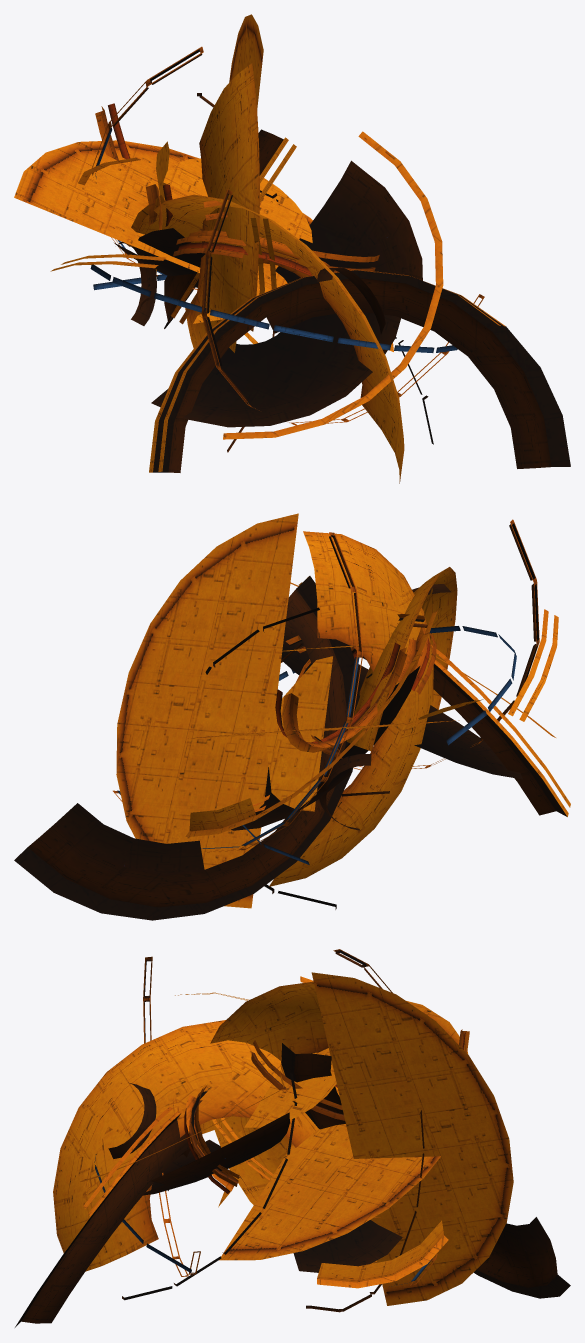
The model's file is MonsterB_Die6.obj.
3 views of the same model, one above another, from view 1: azimuth 30°, elevation 25°; view 2: azimuth 150°, elevation 25°; view 3: azimuth 270°, elevation 25° (orthographic). The views are drawn at different scales.
Visible parts, largest first — view 1: Sphere001; view 2: Sphere001; view 3: Sphere001.
Boxes of the visible parts, x1=… form: Sphere001: x1=14, y1=14, x2=570, y2=483; Sphere001: x1=14, y1=513, x2=570, y2=920; Sphere001: x1=15, y1=949, x2=570, y2=1327.
Size of the model in its own units: 209 by 211 by 299.
1 material, 1 textured.
